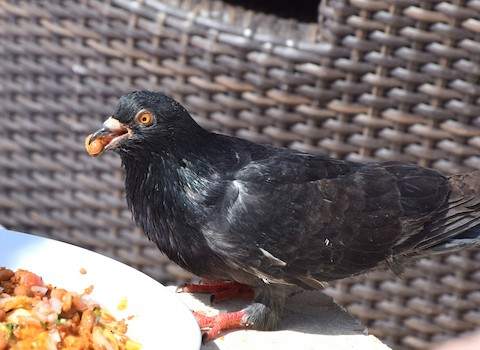pigeon: (81, 83, 475, 343)
